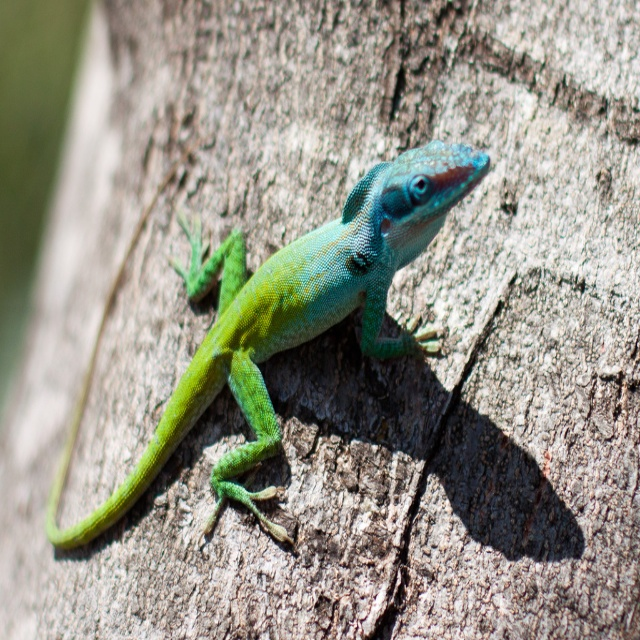Lizard: (44, 140, 490, 550)
